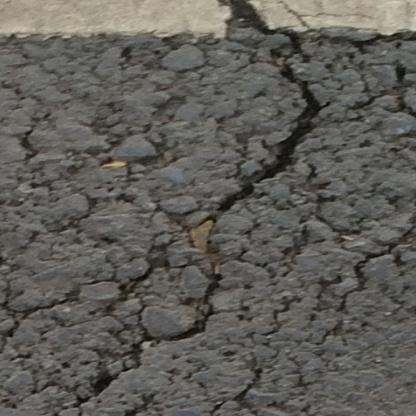Cracks: (210, 0, 377, 218), (42, 270, 227, 416)
